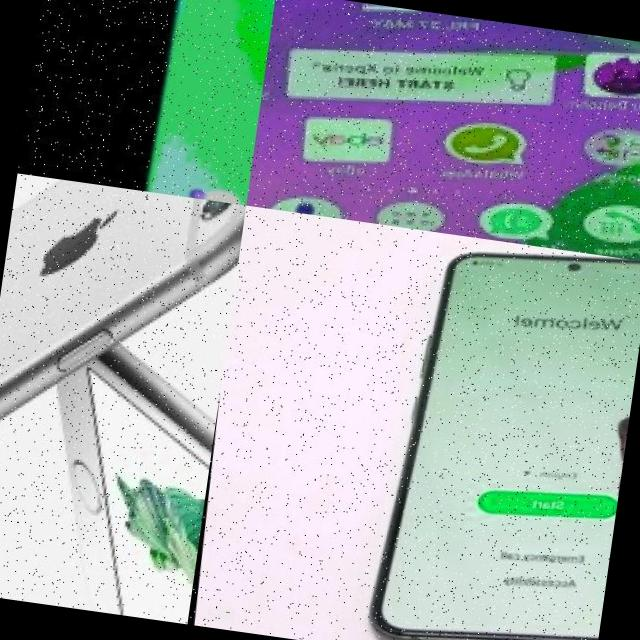dead pixel: (582, 262, 640, 545)
